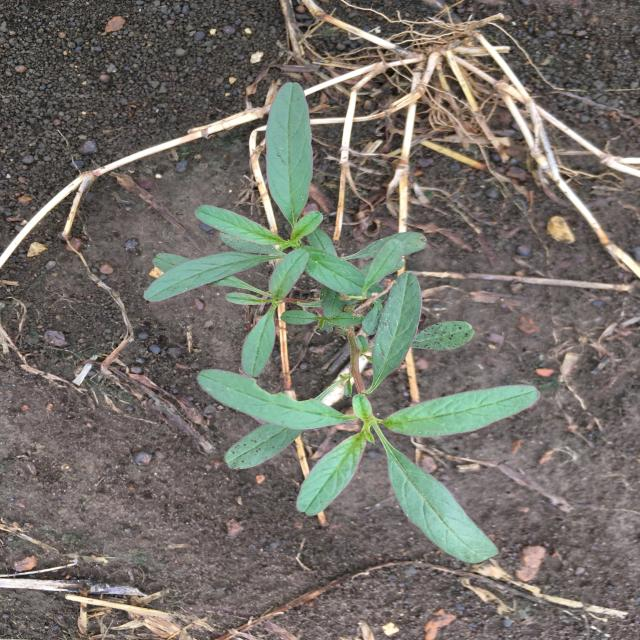Waterhemp: (143, 81, 541, 564)
